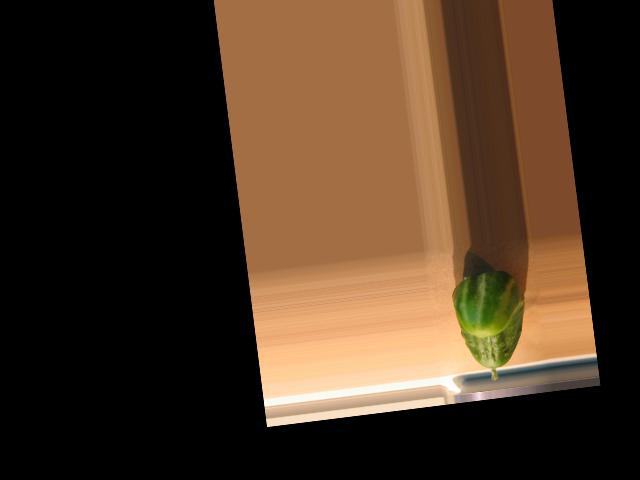cucumber: (448, 267, 533, 384)
